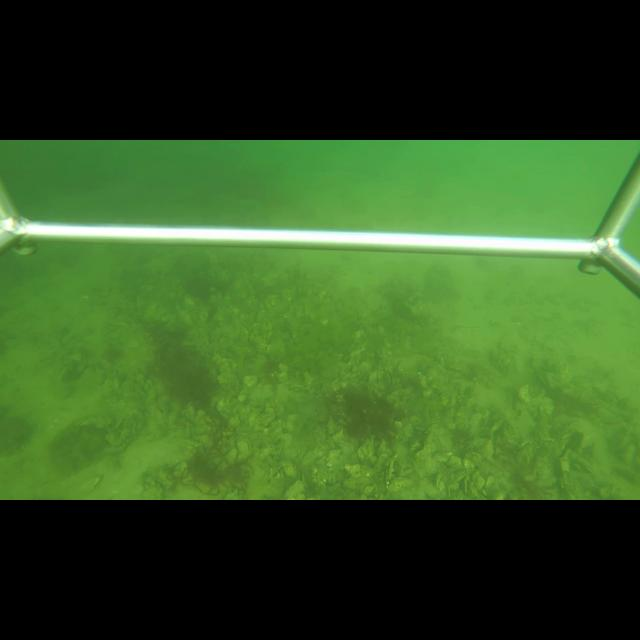Oyster-Open: (384, 452, 399, 492), (383, 366, 396, 394)
